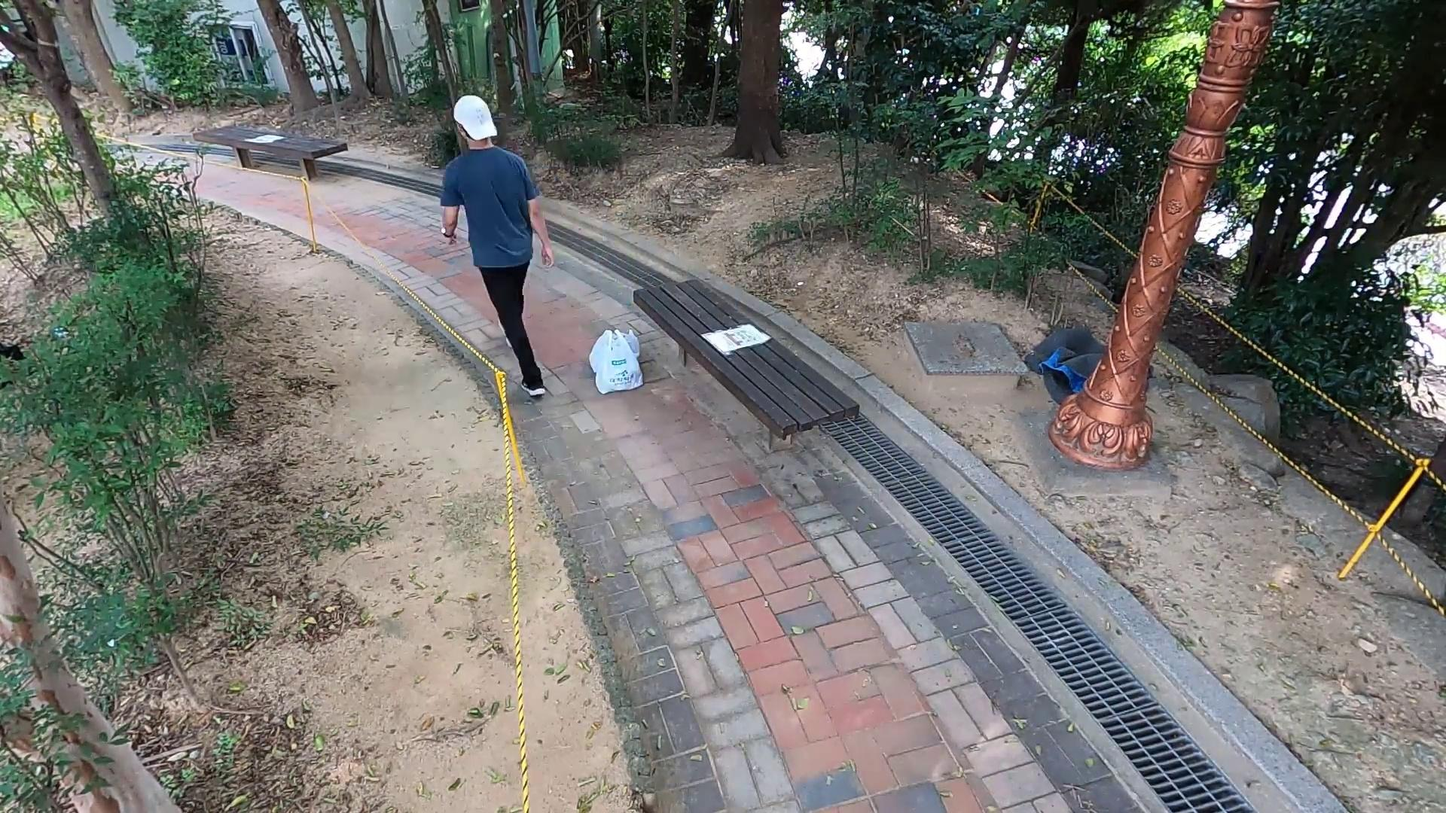person: (437, 87, 563, 403)
trash: (1025, 325, 1110, 409), (594, 330, 646, 393), (585, 326, 643, 373)
